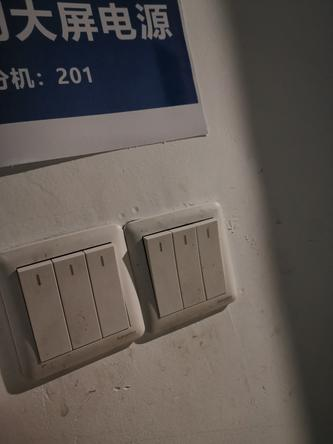switch: (16, 257, 76, 364), (52, 248, 102, 349), (84, 237, 130, 338), (143, 227, 186, 319), (169, 221, 207, 310), (193, 215, 227, 301)
